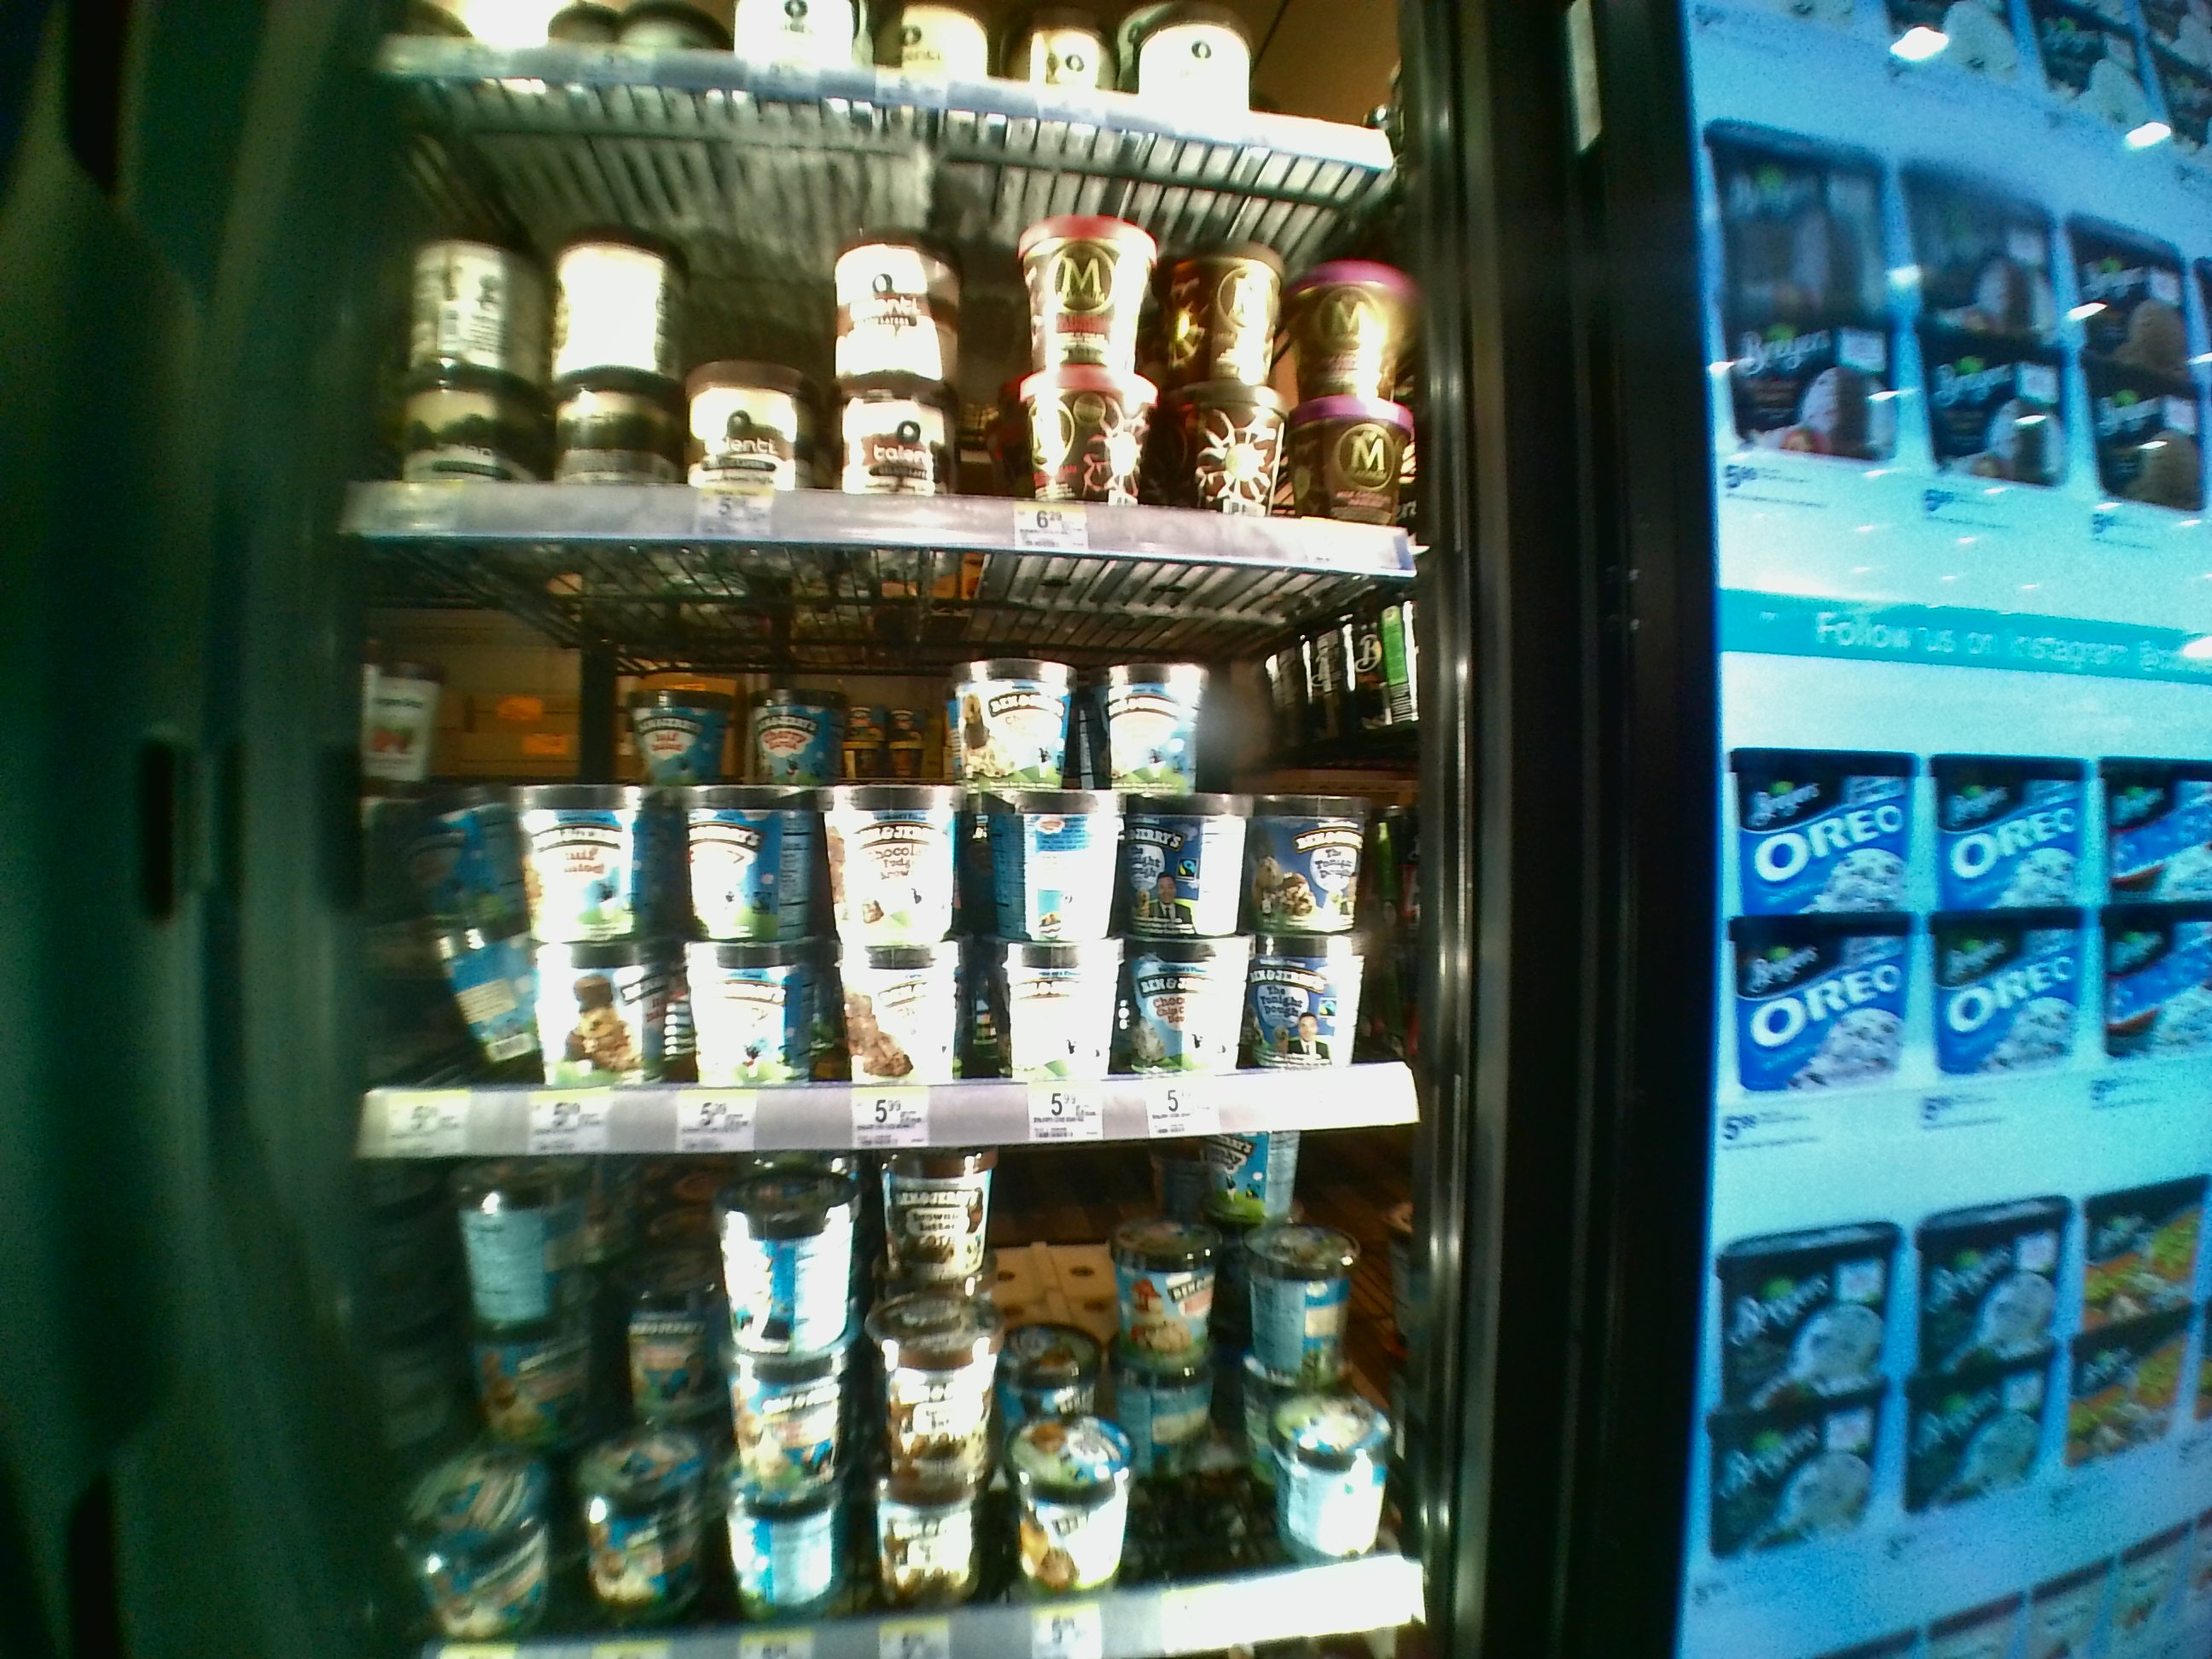shelf: (350, 558, 1446, 1159), (336, 84, 1430, 542)
